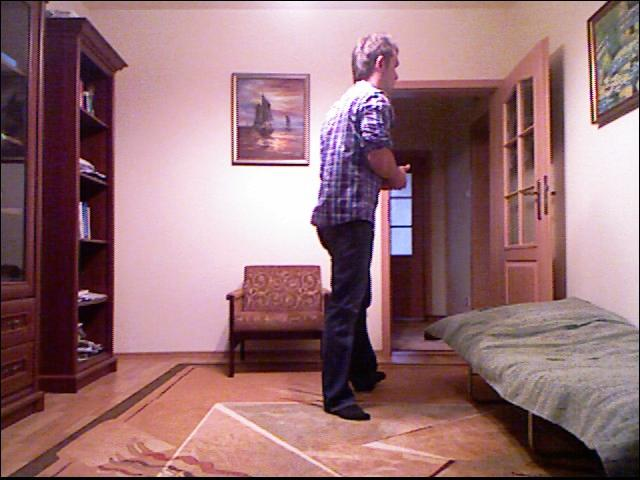standing: (303, 26, 407, 427)
